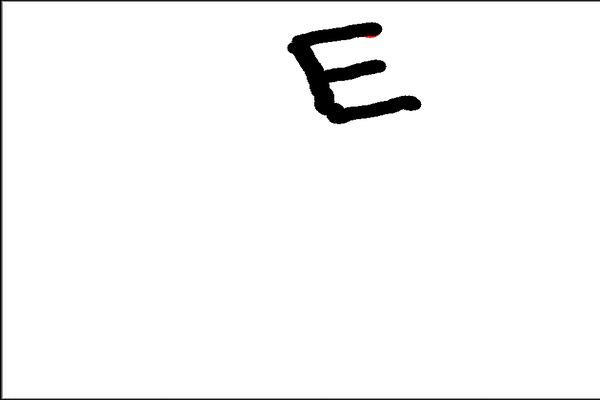E: (280, 17, 427, 132)
